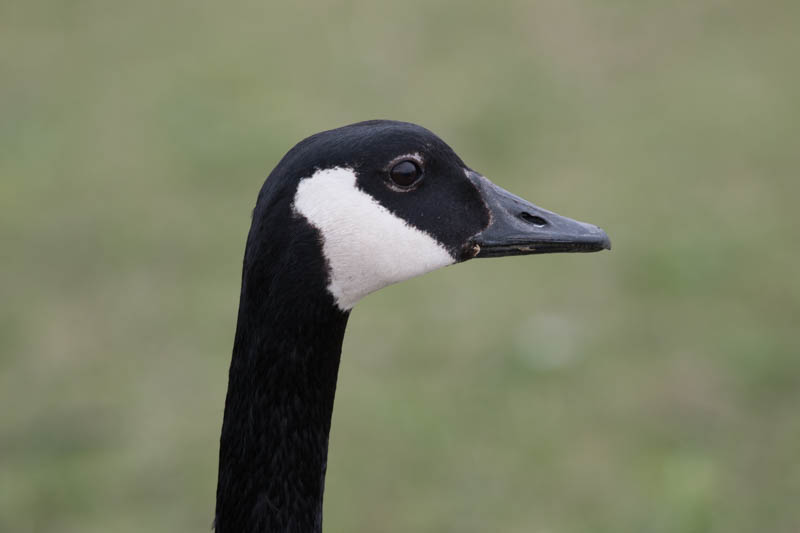goose-head: (243, 118, 612, 312)
